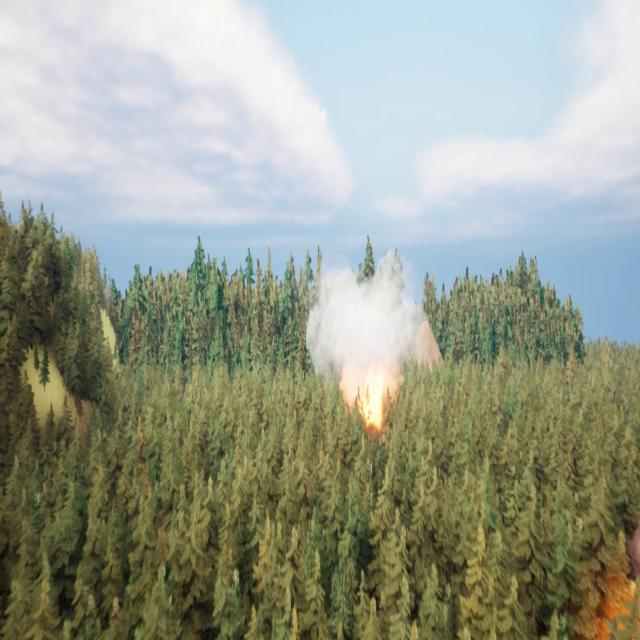fire: (339, 366, 402, 428)
smoke: (305, 246, 453, 400)
